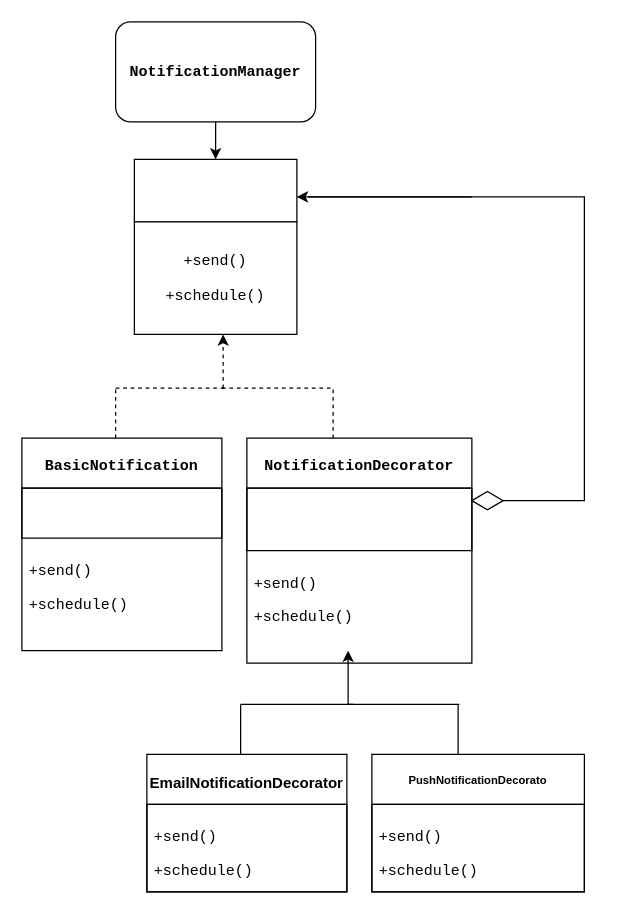
Some shapes in this 639 by 918 pixel diagram are drawn without their labels. The centre of each missing label's shape, as x and y in pixels:
-filename: point 121,512
-wrappee: NotificationService: point 359,519
«interface» NotificationService: point 215,190
